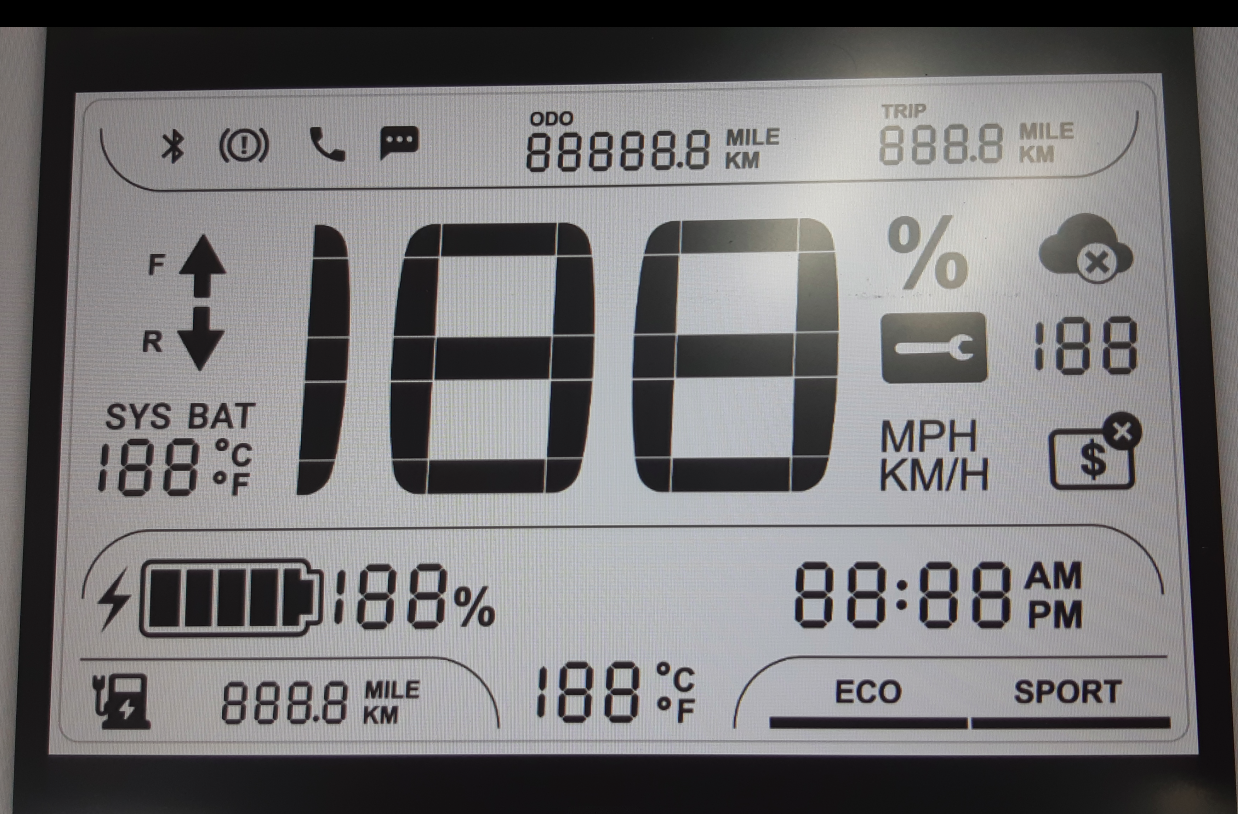bluetooth_on: (155, 122, 190, 168)
braking_on: (214, 120, 274, 169)
calling_on: (303, 121, 351, 170)
connection_lost: (1034, 210, 1140, 289)
error_code: (877, 307, 994, 387)
low_battery: (86, 667, 158, 736)
sms_on: (375, 121, 423, 167)
vin_id: (1043, 407, 1148, 499)
